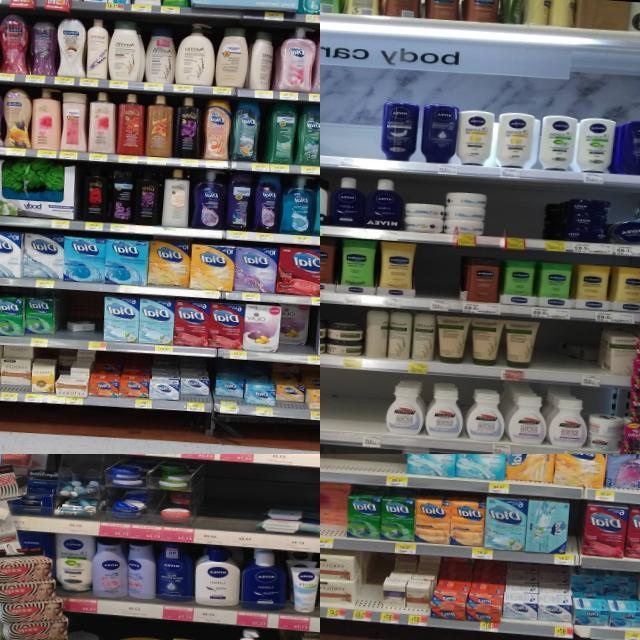empty: (320, 364, 385, 447), (320, 99, 381, 169), (484, 187, 544, 250), (194, 461, 232, 545), (416, 247, 460, 312), (229, 465, 263, 547), (320, 454, 407, 485), (352, 558, 382, 621), (536, 318, 560, 384), (84, 292, 103, 350)
